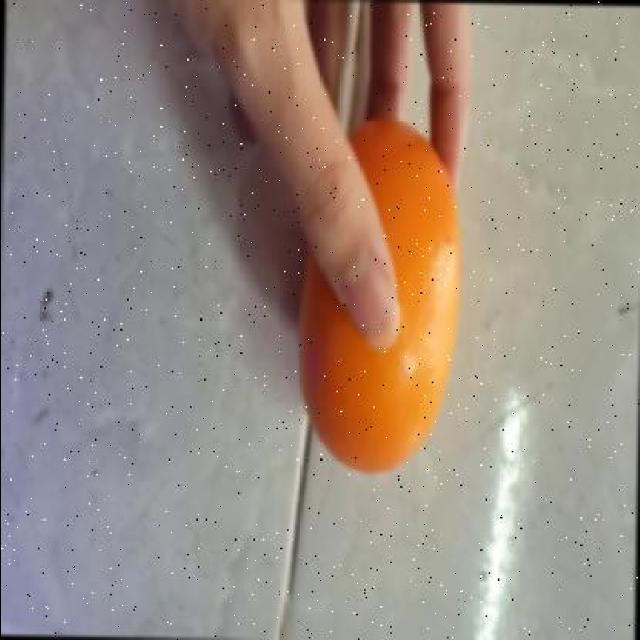Orange: (296, 117, 464, 474)
